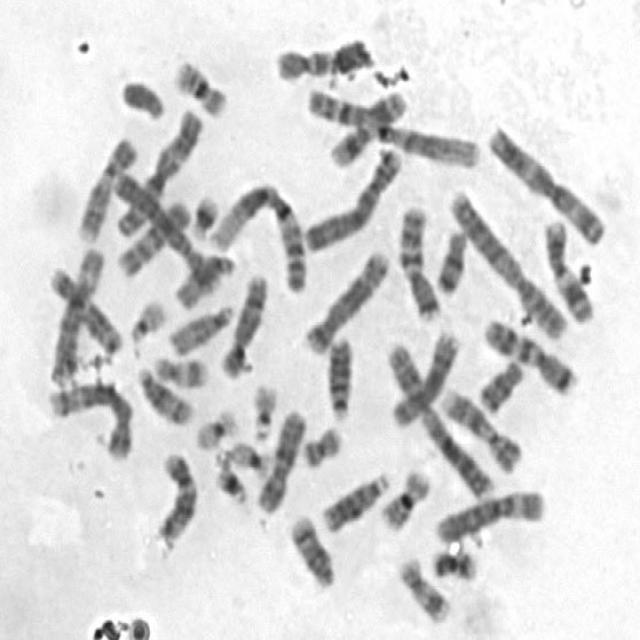A1: (302, 80, 483, 170), (205, 176, 310, 294)
A2: (444, 183, 572, 341), (384, 335, 498, 499)
A3: (482, 116, 609, 247), (112, 101, 205, 238)
B4: (108, 165, 221, 298), (299, 139, 404, 254)
B5: (299, 243, 391, 356), (42, 373, 135, 463)
C10: (112, 192, 195, 280), (271, 33, 377, 82)
C11: (325, 84, 409, 169), (539, 212, 598, 326)
C12: (43, 260, 125, 356), (153, 447, 200, 544)
C6: (44, 240, 106, 384), (430, 481, 550, 546)
C7: (478, 311, 580, 397), (393, 199, 443, 322)
C8: (389, 324, 465, 430), (215, 267, 270, 380)
C9: (436, 382, 524, 474), (72, 131, 140, 244)
D13: (317, 464, 392, 534), (323, 329, 356, 420)
D14: (285, 508, 338, 590), (132, 361, 196, 427)
D15: (164, 296, 237, 358), (169, 247, 237, 311)
E16: (170, 51, 232, 119), (376, 463, 432, 532)
E17: (393, 549, 453, 626), (148, 349, 210, 390)
E18: (472, 352, 526, 414), (430, 222, 470, 296)
F19: (190, 403, 240, 451), (226, 433, 274, 478)
F20: (298, 418, 346, 469), (427, 543, 480, 582)
G21: (210, 459, 250, 506), (187, 187, 221, 240)
G22: (246, 376, 281, 443), (125, 292, 169, 345)
X: (251, 402, 307, 515)
Y: (116, 72, 168, 122)
